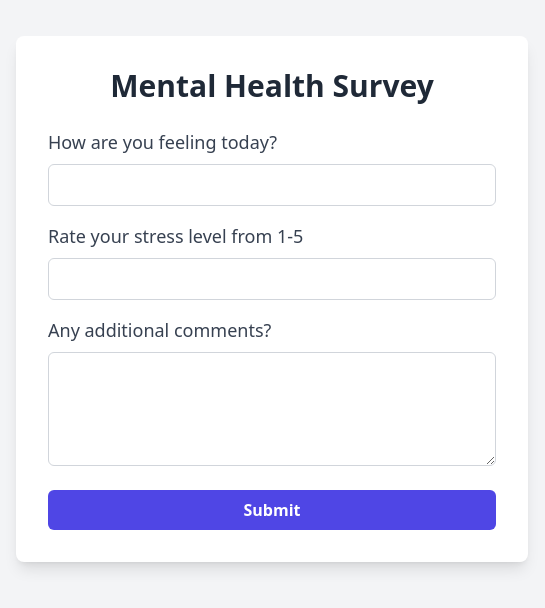
Test case: SurveyForm › displays error message on failed submission
This screenshot has width=545, height=608.
Type "Good" into the field labelled "How are you feeling today?" at (272, 185), box [48,164,496,206]
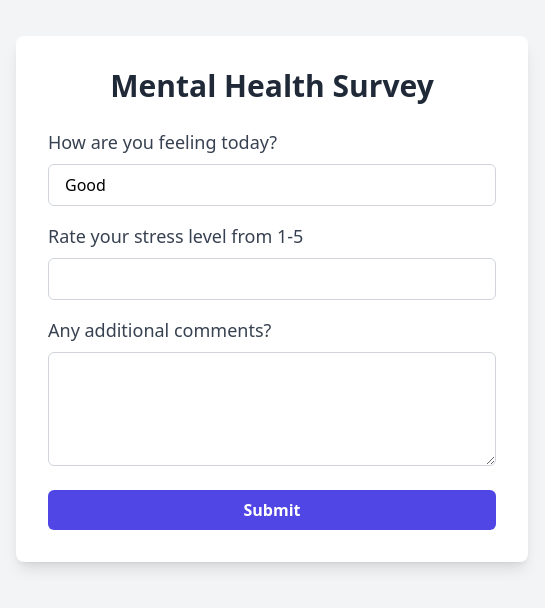
Type "3" into the number field labelled "Rate your stress level from 1-5" at (272, 279), box [48,258,496,300]
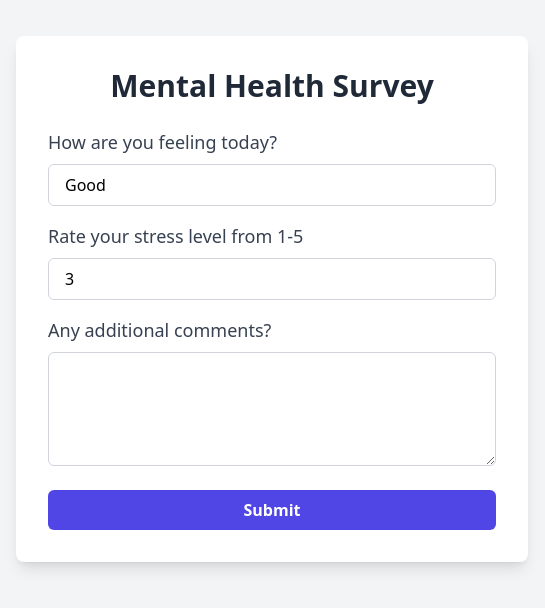
Type "No comments" into the text box labelled "Any additional comments?" at (272, 409), box [48,352,496,466]
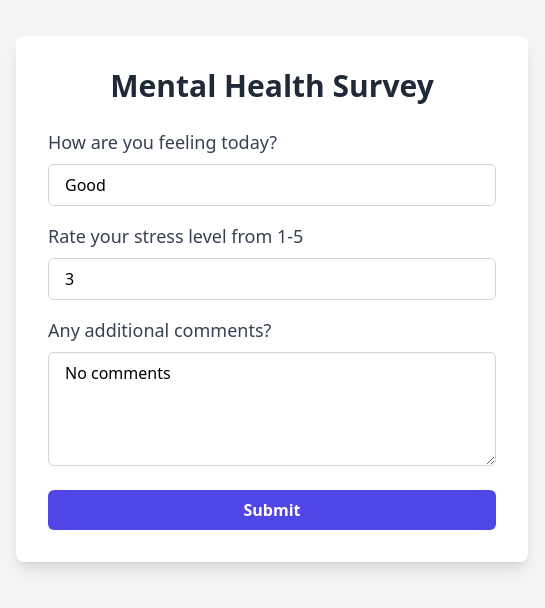
Click the button "Submit" at (272, 510), box [48,490,496,530]
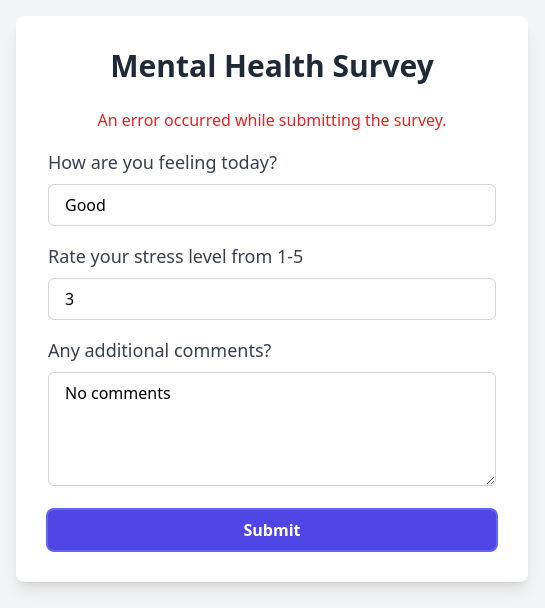
expect the text "An error occurred while submitting the survey." is shown: met, box [98,109,447,131]
